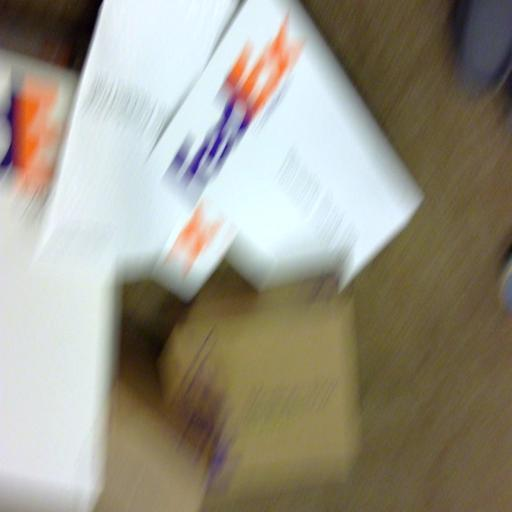Amazon: (163, 3, 403, 290)
